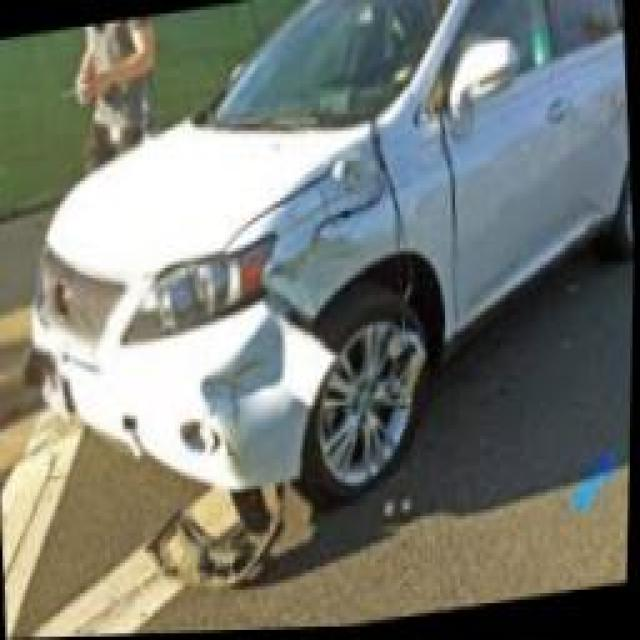replaceable: (192, 339, 346, 484), (253, 188, 405, 291)
